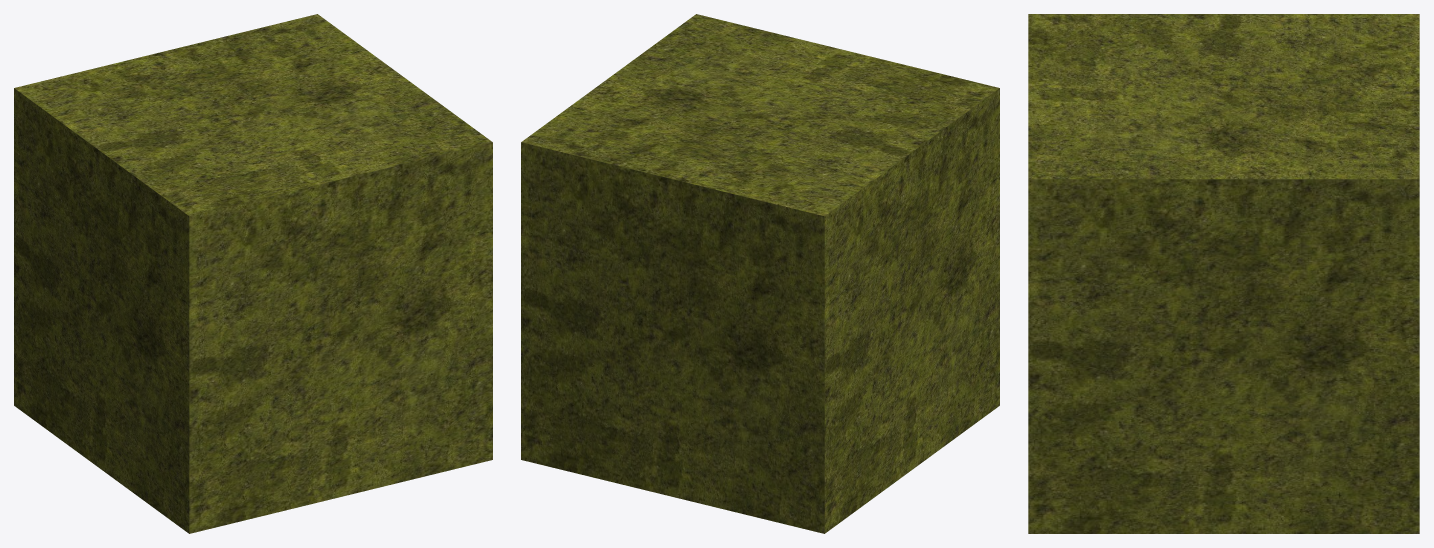
The model's file is art8 005.glb.
3 renders of one model, left to right at view 1: azimuth 30°, elevation 25°; view 2: azimuth 150°, elevation 25°; view 3: azimuth 270°, elevation 25°, orthographic. The views are drawn at different scales.
Parts seen in each view (by area): view 1: TrackedCube; view 2: TrackedCube; view 3: TrackedCube.
Boxes of the visible parts, <box> form: TrackedCube: <box>14,14,492,533</box>; TrackedCube: <box>521,14,999,533</box>; TrackedCube: <box>1028,14,1419,533</box>.
Size of the model in its own units: 0.5 by 0.5 by 0.5.
1 material, 1 textured.
